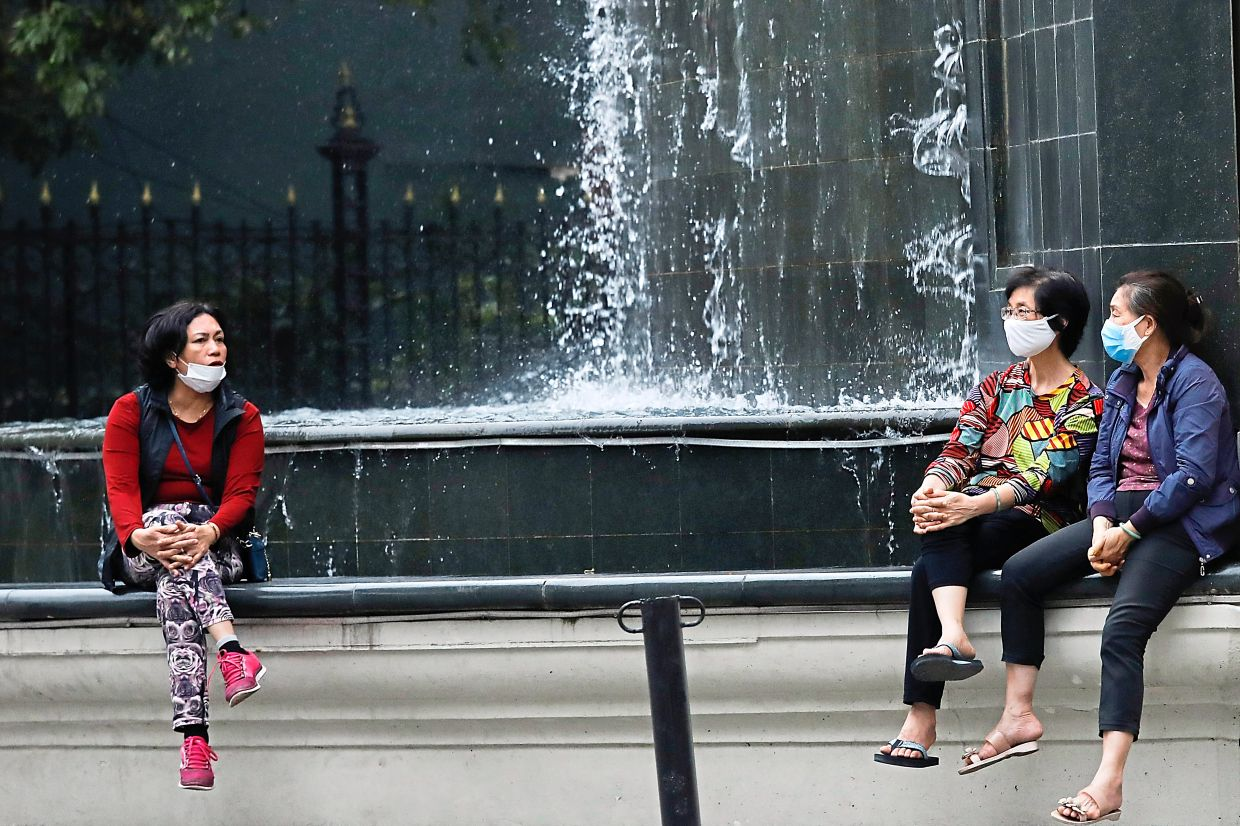Bad: (880, 270, 1232, 826)
Good: (98, 276, 1080, 777)
